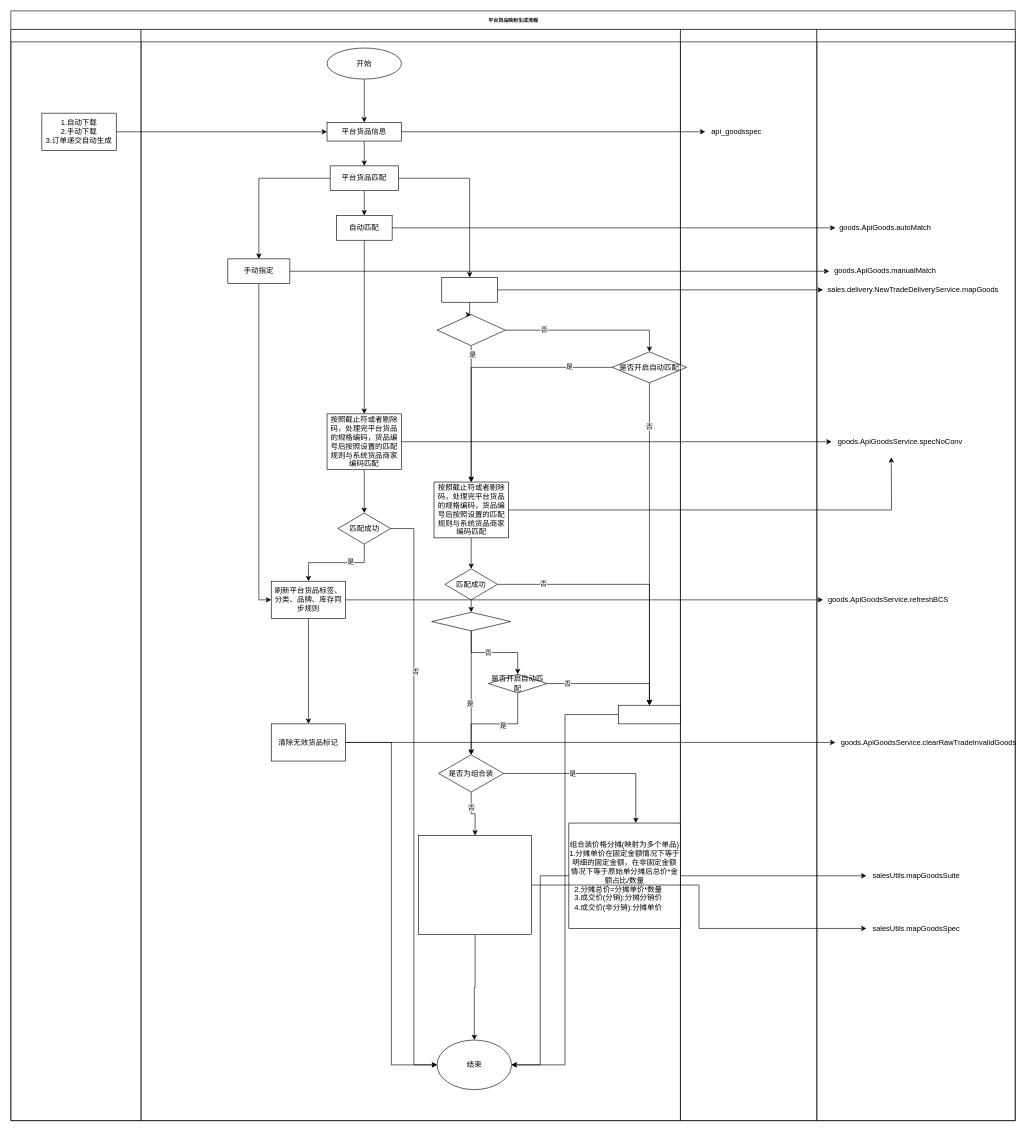
The diagram is 1032 pixels wide and 1132 high, and some of its shapes have lost their labels. The shapes that lost their labels are listed below. From the top down, each one's box as (x1, y1, x2, y2) in pixels, then its label:
(441, 277, 498, 302): 递交自动匹配
(436, 314, 505, 346): 平台货品是否存在
(10, 29, 141, 1121): 输入
(140, 29, 680, 1121): 平台货品映射
(680, 29, 817, 1121): 关键表信息
(816, 29, 1015, 1121): 方法
(431, 612, 511, 631): 前后两次匹配是否相同
(618, 705, 680, 724): 标记无效货品
(418, 835, 532, 935): 单品价格分摊 1.订单分摊总价=原始单分摊总价 2.订单分摊单价=分摊总价/数量 3.成交价(分销):分销价 4.成交价(非分销):分摊总价/数量
